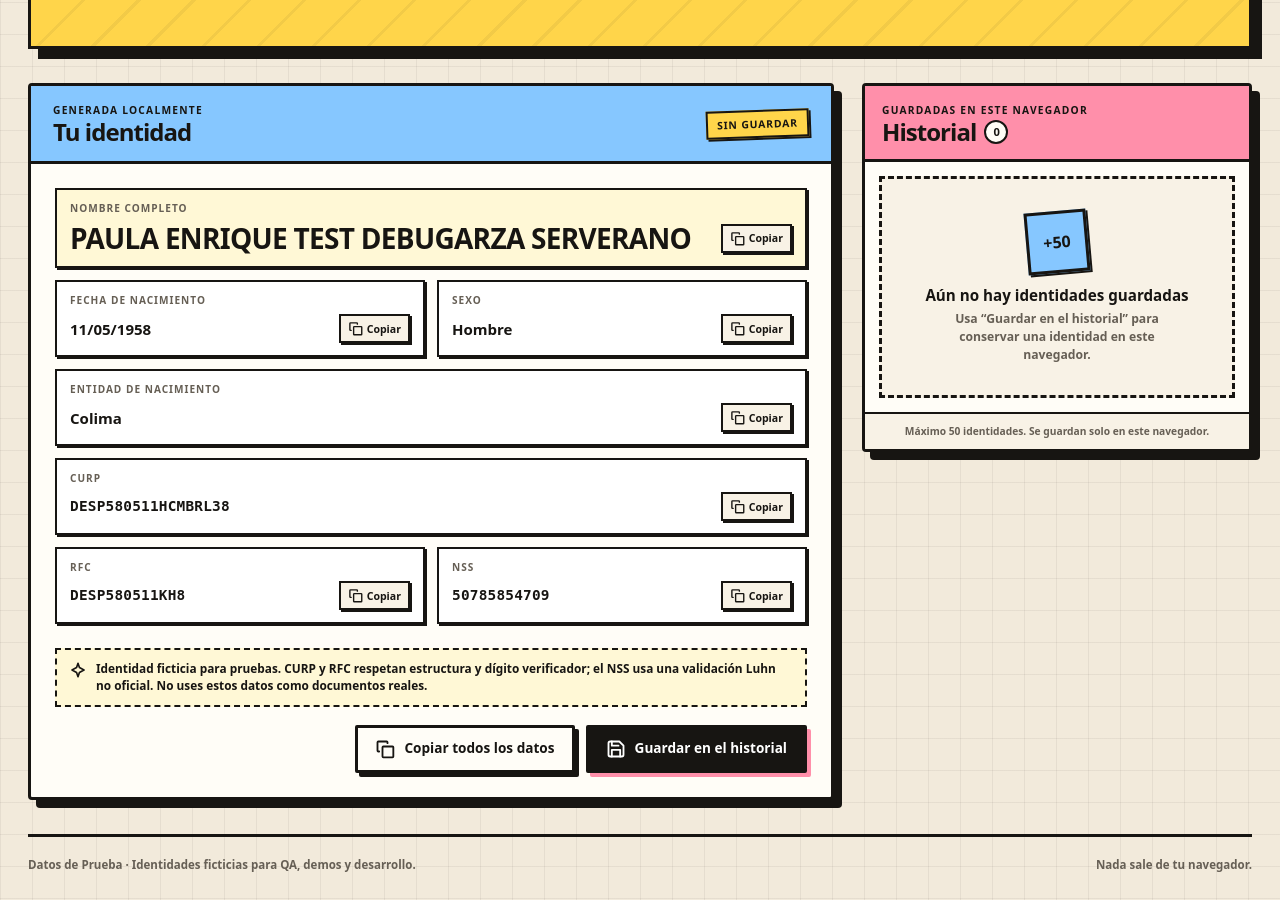
Scenario: App › removes an identity and marks the current one as unsaved
The width and height of the screenshot is (1280, 900).
(page scrolled)
Click the button "Guardar en el historial": point(696, 749) [586,725,807,773]
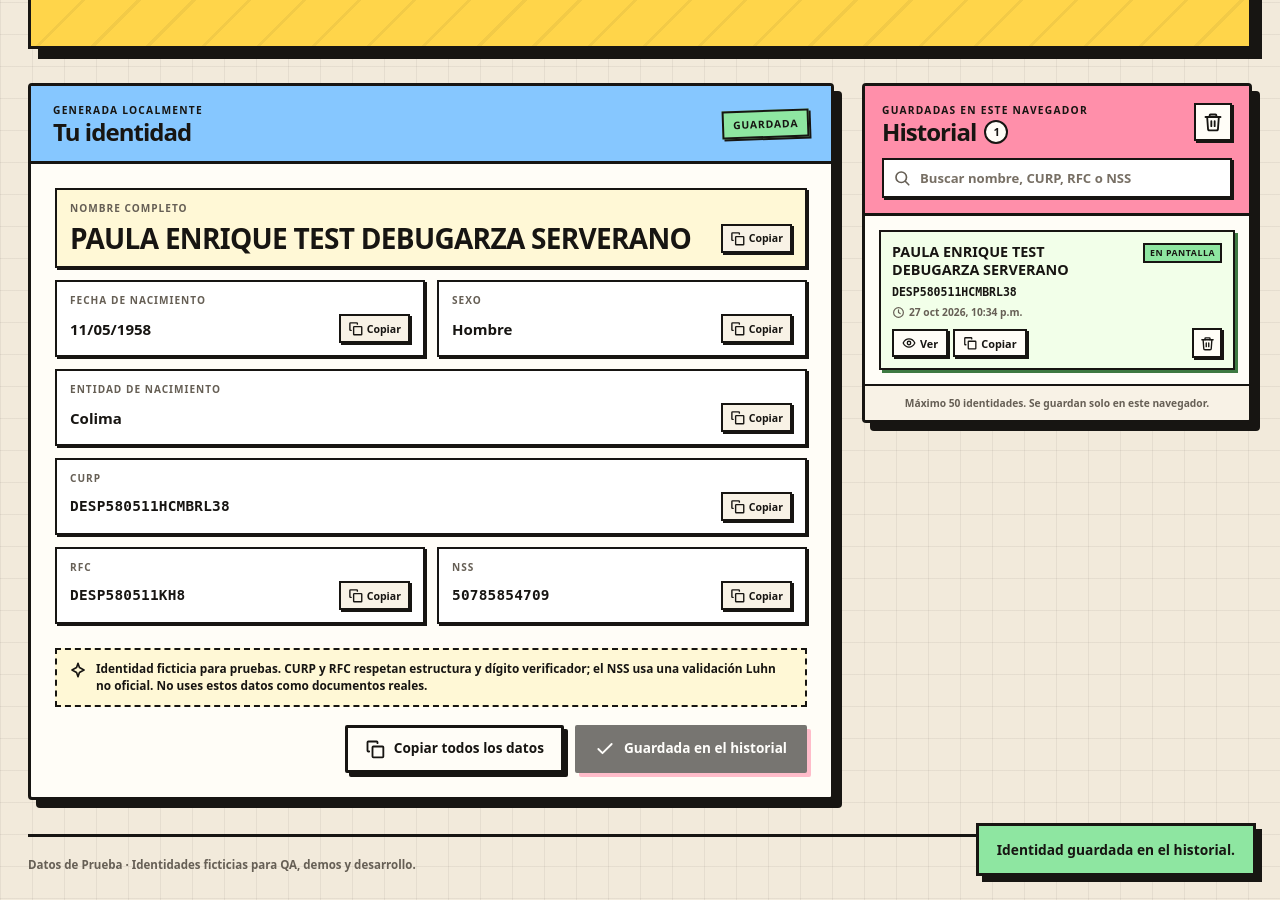
Click the button named "Eliminar a PAULA ENRIQUE TEST DEBUGARZA SERVERANO": point(1207, 343) [1192,328,1222,358]
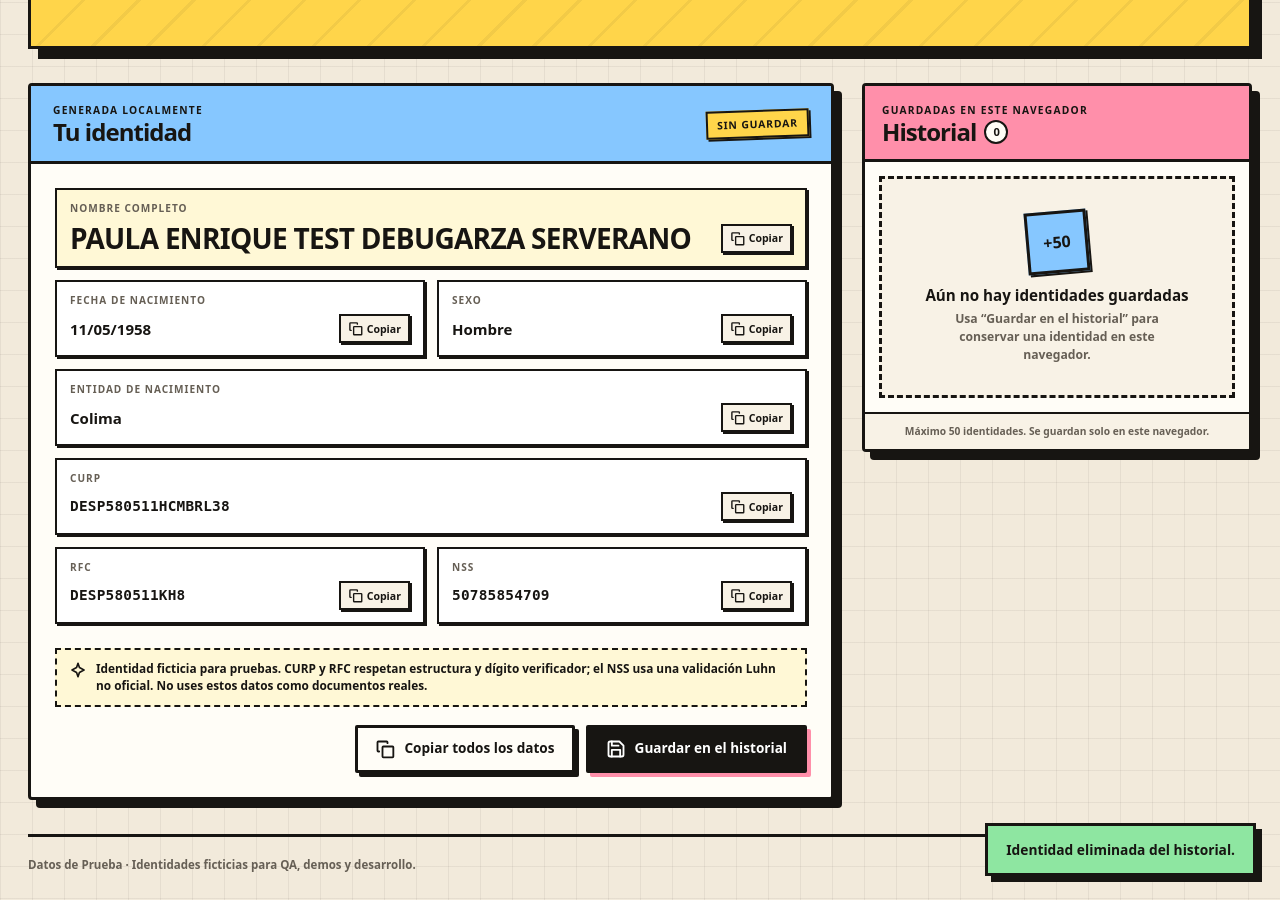
Expected: the heading "Aún no hay identidades guardadas" is shown, [925,286,1189,304]
Expected: the button "Guardar en el historial" is enabled, [586,725,807,773]
Expected: the text "Sin guardar" is shown, [706,108,810,139]
